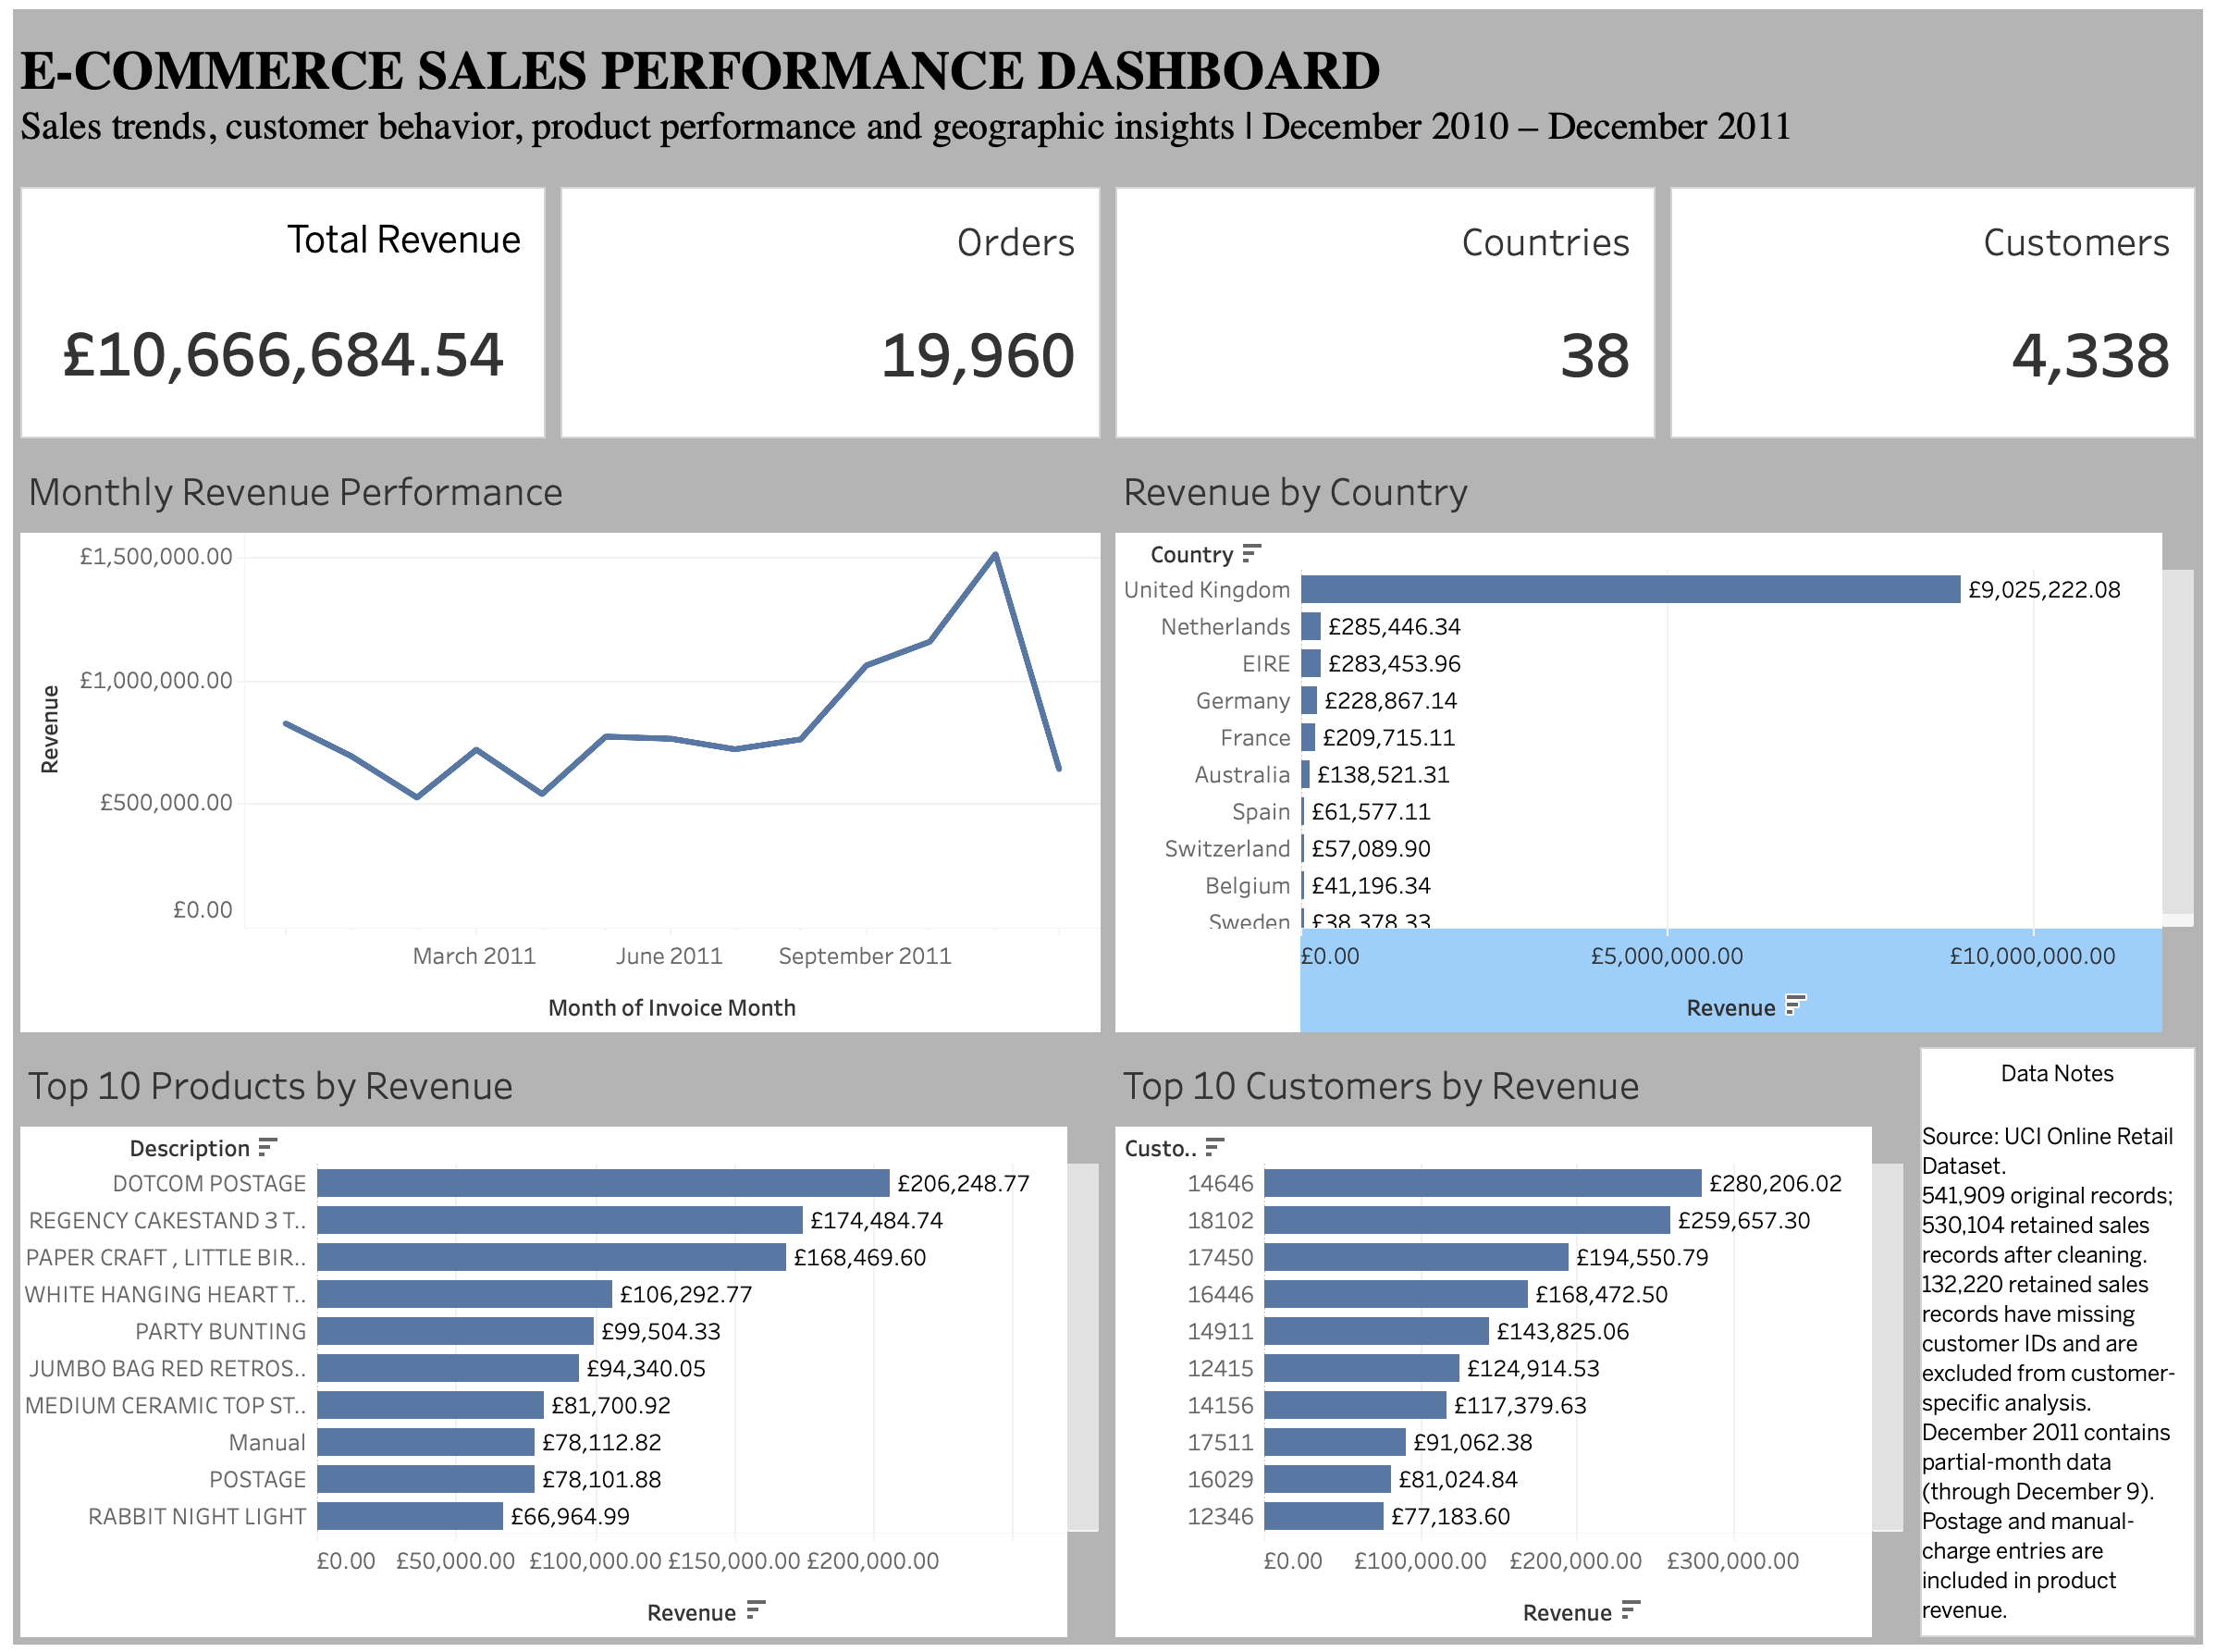

The dashboard page shown, as its layout file describes it:
{"tool":"tableau","page":{"name":"E-Commerce Sales Dashboard","canvas":[1200,900],"ordinal":0},"visuals":[{"type":"title","box":[8,8,1184,69]},{"type":"worksheet","title":"KPI - Total Revenue","mark":"Automatic","box":[8,77,292,148]},{"type":"worksheet","title":"KPI - Orders","mark":"Automatic","box":[300,77,300,148]},{"type":"worksheet","title":"KPI - Countries","mark":"Automatic","box":[600,77,300,148]},{"type":"worksheet","title":"KPI - Customers","mark":"Automatic","box":[900,77,292,148]},{"type":"worksheet","title":"Monthly Revenue Performance","mark":"Line","rows":["revenue"],"cols":["invoice_month"],"box":[8,225,592,331]},{"type":"worksheet","title":"Revenue by Country","mark":"Automatic","rows":["country"],"cols":["revenue"],"box":[600,225,592,331]},{"type":"worksheet","title":"Top 10 Products by Revenue","mark":"Automatic","rows":["description"],"cols":["revenue"],"box":[8,556,592,336]},{"type":"worksheet","title":"Top 10 Customers by Revenue","mark":"Automatic","rows":["customer_id"],"cols":["revenue"],"box":[600,556,435,336]},{"type":"text","box":[1035,556,157,336]}]}

Visuals, with their boxes in screenshot pixels (x1, y1, x2, y2), scaled from the page's 1200x900 canvas onto the 2216x1652 screenshot:
title: x1=15, y1=15, x2=2201, y2=142
"KPI - Total Revenue" worksheet: x1=15, y1=142, x2=554, y2=413
"KPI - Orders" worksheet: x1=554, y1=142, x2=1108, y2=413
"KPI - Countries" worksheet: x1=1108, y1=142, x2=1662, y2=413
"KPI - Customers" worksheet: x1=1662, y1=142, x2=2201, y2=413
"Monthly Revenue Performance" worksheet (Line marks): x1=15, y1=413, x2=1108, y2=1020
"Revenue by Country" worksheet: x1=1108, y1=413, x2=2201, y2=1020
"Top 10 Products by Revenue" worksheet: x1=15, y1=1020, x2=1108, y2=1637
"Top 10 Customers by Revenue" worksheet: x1=1108, y1=1020, x2=1912, y2=1637
text: x1=1912, y1=1020, x2=2201, y2=1637
